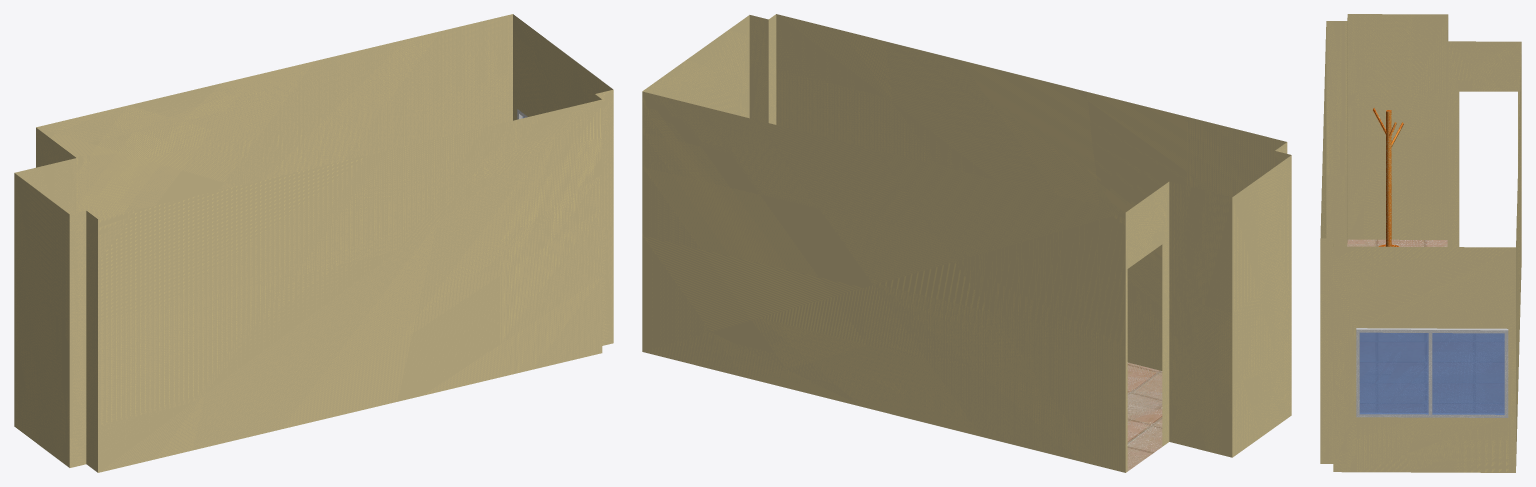
Rendered from DES005.obj.
3 renders of one model, left to right at view 1: azimuth 30°, elevation 25°; view 2: azimuth 150°, elevation 25°; view 3: azimuth 270°, elevation 25°, orthographic. The views are drawn at different scales.
Parts seen in each view (by area): view 1: Mesh20 DES005 Model; view 2: Mesh20 DES005 Model; view 3: Mesh20 DES005 Model, Mesh1 ventana2_1 DES005 Model, Mesh6 perchero1 DES005 Model.
Part boxes in pixels (x1=…): Mesh20 DES005 Model: x1=14, y1=14, x2=613, y2=472; Mesh20 DES005 Model: x1=642, y1=14, x2=1291, y2=472; Mesh20 DES005 Model: x1=1320, y1=14, x2=1521, y2=472; Mesh1 ventana2_1 DES005 Model: x1=1356, y1=328, x2=1508, y2=417; Mesh6 perchero1 DES005 Model: x1=1378, y1=110, x2=1399, y2=246.
Size of the model in its own units: 8.04 by 3.6 by 2.91.
9 materials, 3 textured.
